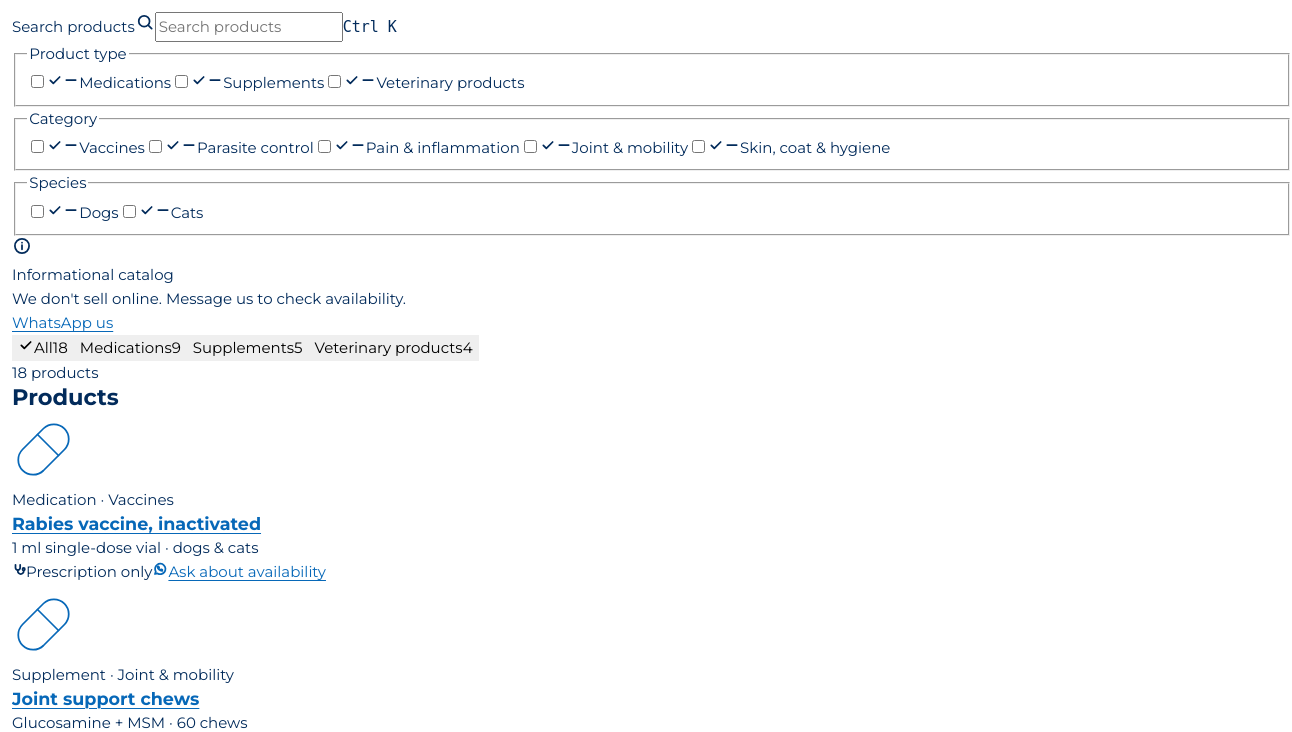
it: ProductCatalog › shows an empty state when nothing matches
The width and height of the screenshot is (1292, 732).
Type "zzz" into the search field labelled "Search products" at (249, 27), box [155,12,343,42]
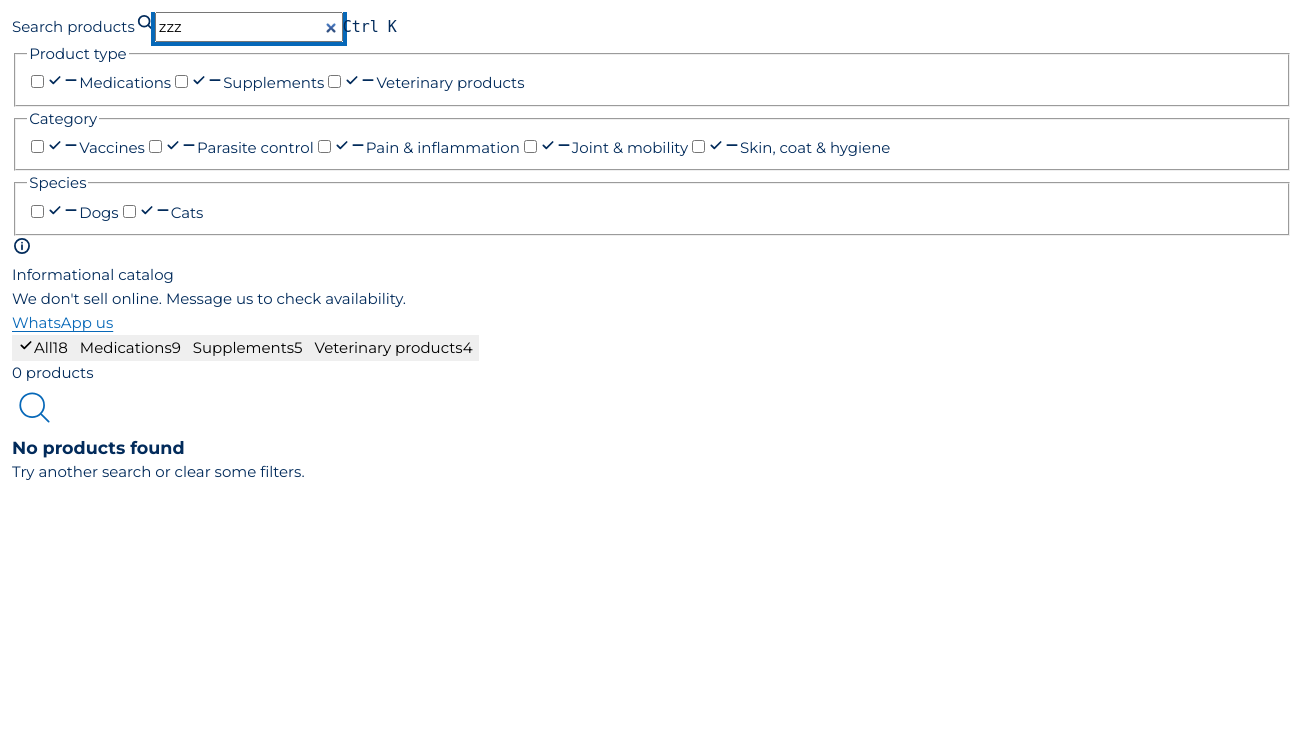
Now the heading "No products found" is shown, box [12,437,185,458]
